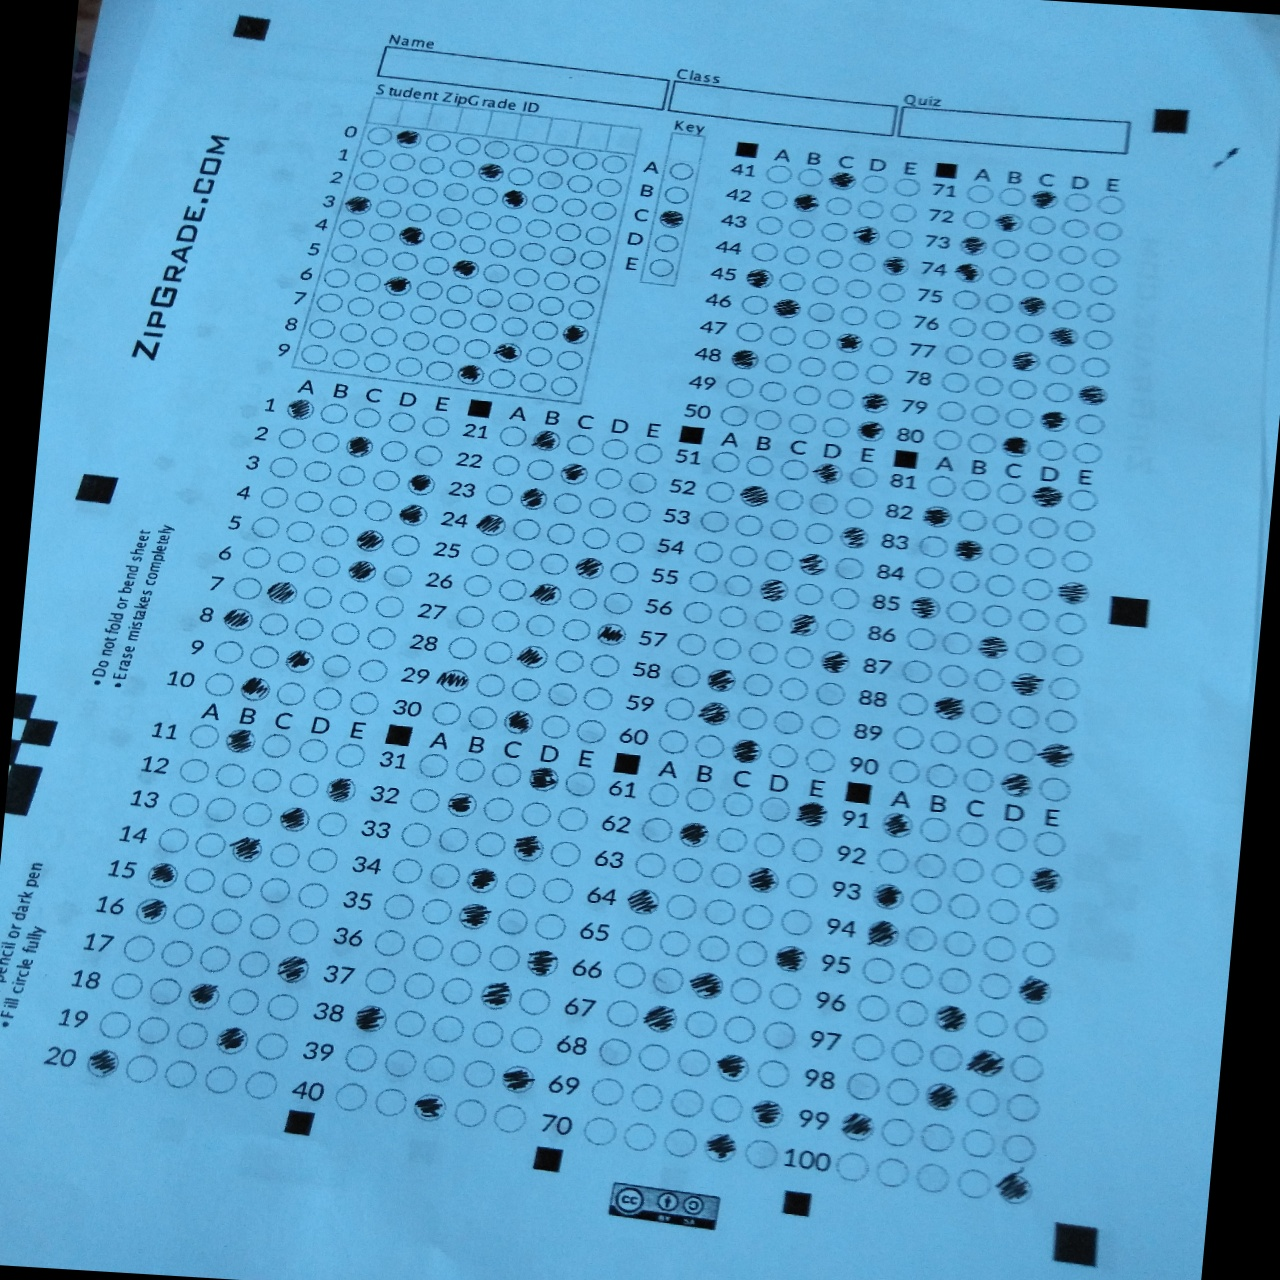not-c: (918, 1119, 958, 1155), (998, 1132, 1039, 1166), (636, 813, 675, 847), (706, 1092, 745, 1125), (1019, 938, 1058, 971), (962, 1087, 1002, 1119), (958, 1126, 998, 1159), (667, 1085, 704, 1119), (760, 1017, 797, 1051), (949, 855, 987, 888), (954, 819, 992, 853), (741, 1138, 779, 1171), (754, 1058, 792, 1091), (700, 896, 738, 928), (631, 849, 669, 881), (644, 779, 682, 812), (681, 784, 720, 817), (719, 788, 757, 821), (872, 844, 911, 877), (972, 1007, 1010, 1040), (1012, 1012, 1050, 1044), (1007, 1051, 1046, 1084), (1003, 1091, 1042, 1124), (832, 1150, 871, 1183), (872, 1156, 911, 1189), (912, 1162, 951, 1194), (954, 1167, 993, 1200), (706, 858, 745, 890), (897, 960, 937, 992), (849, 1032, 888, 1063), (881, 1076, 921, 1108), (581, 1115, 619, 1148), (661, 1126, 699, 1159), (627, 1082, 665, 1115), (602, 998, 640, 1030), (656, 928, 694, 961), (675, 1046, 713, 1078), (765, 980, 803, 1013), (694, 932, 731, 965), (790, 835, 828, 867), (669, 852, 707, 885), (756, 794, 794, 826), (917, 813, 954, 846), (945, 888, 982, 921), (1032, 828, 1069, 860), (940, 927, 978, 960), (855, 990, 892, 1023), (888, 1036, 926, 1069), (595, 1036, 634, 1068), (721, 1014, 760, 1046), (727, 975, 765, 1007), (731, 939, 770, 971), (712, 823, 750, 855), (992, 824, 1030, 856), (986, 894, 1024, 926), (980, 932, 1019, 964), (860, 954, 899, 986), (843, 1070, 881, 1102), (878, 1116, 917, 1148), (218, 870, 254, 903), (532, 910, 568, 942), (418, 896, 455, 928), (225, 985, 261, 1017), (333, 1081, 369, 1114), (381, 1047, 417, 1080), (420, 1051, 456, 1084), (448, 937, 484, 969), (361, 965, 397, 998), (373, 1085, 409, 1118), (663, 891, 700, 924), (784, 869, 821, 901), (751, 829, 788, 862), (913, 847, 949, 880), (1024, 899, 1061, 932), (976, 968, 1013, 1001), (937, 965, 973, 998), (1043, 706, 1080, 738), (406, 787, 443, 818), (170, 900, 207, 932), (196, 942, 233, 974), (508, 1024, 545, 1056), (469, 1019, 506, 1050), (620, 1121, 658, 1152), (590, 1075, 627, 1107), (610, 960, 647, 992), (617, 921, 654, 953), (649, 966, 687, 998), (636, 1042, 674, 1074), (683, 1007, 721, 1039), (738, 901, 776, 933), (907, 884, 945, 915), (989, 859, 1027, 891), (903, 921, 940, 953), (892, 998, 930, 1029), (926, 1041, 964, 1073), (661, 693, 699, 724), (135, 1013, 170, 1046), (124, 1051, 159, 1084), (265, 990, 300, 1023), (431, 1013, 467, 1046), (257, 874, 293, 906), (389, 856, 425, 887), (416, 750, 452, 782), (488, 760, 524, 791), (495, 905, 531, 937), (181, 864, 217, 896), (158, 939, 195, 971), (246, 911, 282, 942), (285, 915, 321, 947), (203, 1063, 239, 1095), (341, 1042, 377, 1074), (491, 1102, 527, 1133), (409, 932, 445, 964), (370, 927, 407, 959), (778, 906, 815, 938), (922, 760, 959, 791), (935, 660, 972, 692), (972, 665, 1008, 696), (764, 738, 801, 770), (888, 723, 926, 754), (667, 662, 704, 693), (561, 768, 597, 799), (554, 804, 590, 836), (547, 838, 583, 870), (540, 873, 576, 905), (472, 829, 508, 860), (479, 794, 515, 825), (427, 860, 462, 892), (110, 971, 145, 1002), (148, 975, 183, 1007), (163, 1058, 198, 1090), (236, 949, 271, 981), (462, 1058, 497, 1090), (517, 986, 552, 1017), (438, 976, 474, 1008), (393, 1008, 428, 1040), (294, 880, 331, 911), (380, 892, 416, 922), (518, 799, 554, 830), (121, 933, 157, 964), (209, 907, 245, 938), (253, 1030, 290, 1061), (243, 1070, 279, 1101), (401, 971, 437, 1001), (927, 728, 964, 758), (894, 688, 931, 719), (968, 697, 1005, 728), (1002, 735, 1039, 765), (1037, 775, 1074, 805), (1046, 673, 1082, 703), (1049, 640, 1085, 670), (802, 745, 838, 776), (692, 731, 728, 762), (672, 629, 708, 660), (709, 633, 745, 663), (745, 638, 782, 668), (781, 641, 817, 672), (903, 624, 939, 654), (912, 561, 948, 592), (885, 757, 922, 787), (452, 754, 486, 785), (502, 871, 537, 901), (436, 824, 471, 855), (97, 1010, 132, 1041), (175, 1021, 210, 1051), (452, 1097, 488, 1128), (485, 942, 520, 973), (656, 726, 692, 756), (960, 765, 996, 795), (898, 658, 934, 687), (965, 731, 1001, 761), (1005, 702, 1041, 731), (738, 670, 775, 700), (715, 602, 751, 632), (679, 598, 715, 627), (399, 821, 434, 850), (776, 674, 811, 703), (771, 708, 806, 737), (806, 713, 843, 741), (733, 704, 769, 733), (823, 615, 859, 644), (831, 554, 867, 583), (273, 680, 307, 709), (188, 722, 222, 751), (429, 699, 463, 728), (489, 607, 523, 636), (459, 572, 493, 601), (297, 736, 331, 765), (813, 679, 847, 708), (464, 703, 499, 731), (509, 676, 544, 704), (445, 634, 481, 662), (202, 795, 237, 823), (751, 607, 787, 635), (772, 486, 808, 515), (791, 581, 828, 608), (720, 571, 756, 598), (686, 567, 722, 594), (939, 629, 975, 656), (1012, 639, 1048, 666), (986, 542, 1022, 568), (925, 474, 961, 501), (767, 515, 803, 542), (840, 493, 877, 520), (743, 452, 779, 479), (707, 448, 743, 475), (309, 685, 343, 713), (537, 712, 571, 740), (546, 680, 580, 708), (553, 648, 587, 676), (557, 617, 591, 645), (523, 612, 557, 640), (493, 577, 527, 605), (600, 588, 634, 617), (538, 551, 572, 579), (259, 731, 293, 760), (332, 742, 366, 770), (288, 771, 322, 799), (251, 767, 285, 795), (213, 761, 247, 789), (156, 826, 190, 855), (193, 832, 227, 860), (240, 799, 274, 828), (314, 810, 348, 838), (305, 846, 339, 874), (268, 840, 302, 869), (690, 538, 726, 565), (761, 547, 796, 574), (1016, 606, 1051, 633), (979, 602, 1014, 629), (982, 571, 1017, 598), (1020, 576, 1055, 602), (1023, 545, 1058, 572), (955, 508, 990, 535), (959, 475, 994, 502), (993, 479, 1028, 506), (1024, 515, 1060, 542), (803, 519, 838, 546), (703, 481, 738, 508), (806, 490, 842, 517), (845, 464, 880, 491), (942, 599, 979, 625), (695, 509, 731, 535), (580, 685, 613, 713), (607, 558, 640, 586), (178, 757, 211, 785), (168, 791, 200, 819), (338, 588, 372, 615), (347, 689, 381, 716), (202, 670, 236, 697), (474, 673, 508, 700), (481, 639, 515, 666), (588, 653, 622, 680), (452, 602, 486, 629), (828, 585, 862, 612), (990, 511, 1024, 538), (1065, 486, 1099, 513), (731, 512, 765, 539), (1058, 215, 1092, 241), (726, 543, 761, 568), (1053, 612, 1088, 638), (947, 568, 982, 594), (1062, 517, 1097, 543), (1058, 549, 1094, 574), (778, 457, 813, 483), (318, 523, 350, 550), (309, 553, 342, 580), (302, 584, 335, 611), (257, 610, 290, 636), (355, 658, 388, 685), (574, 719, 607, 745), (565, 585, 598, 612), (468, 542, 501, 568), (829, 358, 862, 384), (836, 302, 869, 329), (1005, 406, 1037, 433), (1044, 350, 1077, 377), (1054, 268, 1087, 295), (917, 533, 951, 559), (869, 306, 903, 332), (1012, 320, 1046, 346), (274, 549, 306, 576), (240, 545, 272, 572), (544, 520, 576, 547), (579, 525, 611, 552), (489, 452, 520, 479), (633, 440, 665, 467), (599, 437, 631, 464), (976, 343, 1008, 370), (258, 484, 291, 510), (250, 513, 282, 539), (382, 563, 415, 588), (231, 576, 264, 601), (365, 625, 397, 651), (293, 615, 326, 641), (620, 501, 653, 526), (551, 490, 584, 516), (564, 433, 597, 458), (819, 414, 852, 440), (801, 326, 833, 352), (767, 324, 799, 349), (776, 267, 809, 293), (932, 427, 965, 452), (979, 316, 1012, 342), (1006, 376, 1039, 402), (1036, 436, 1069, 462), (1069, 440, 1102, 465), (1074, 411, 1107, 437), (1041, 380, 1074, 406), (1051, 297, 1084, 322), (1020, 267, 1053, 293), (990, 237, 1023, 263), (1088, 244, 1121, 270), (1026, 212, 1058, 238), (960, 207, 993, 233), (964, 181, 996, 206), (846, 250, 879, 275), (781, 243, 813, 268), (753, 212, 785, 238), (756, 186, 789, 212), (1085, 273, 1119, 298), (350, 406, 382, 431), (327, 493, 359, 519), (390, 532, 422, 558), (331, 621, 362, 647), (248, 644, 280, 669), (212, 639, 244, 665), (320, 653, 352, 679), (503, 546, 535, 572), (510, 517, 542, 543), (483, 482, 515, 508), (524, 456, 556, 482), (593, 467, 625, 492), (627, 470, 659, 496), (719, 403, 750, 429), (753, 407, 784, 433), (785, 410, 817, 436), (867, 334, 899, 360), (757, 377, 789, 403), (738, 291, 770, 316), (805, 299, 837, 325), (934, 400, 966, 425), (946, 314, 978, 340), (1084, 298, 1116, 324), (1092, 218, 1124, 244), (275, 425, 308, 450), (284, 519, 316, 544), (373, 594, 406, 619), (613, 530, 646, 554), (586, 496, 619, 520), (496, 423, 529, 448), (863, 363, 896, 388), (722, 375, 755, 400), (761, 350, 794, 375), (795, 354, 828, 379), (733, 320, 765, 345), (843, 277, 876, 301), (965, 431, 998, 456), (939, 372, 972, 396), (944, 343, 976, 368), (1081, 328, 1114, 353), (1021, 238, 1054, 263), (1062, 190, 1095, 215), (996, 184, 1029, 209), (815, 246, 847, 271), (749, 239, 782, 264), (762, 162, 795, 186), (822, 195, 855, 219), (267, 454, 298, 479), (318, 401, 349, 425), (420, 414, 451, 438), (377, 438, 409, 463), (362, 497, 394, 522), (825, 387, 857, 411), (792, 383, 824, 408), (810, 272, 842, 297), (949, 290, 981, 314), (983, 291, 1015, 315), (973, 374, 1005, 399), (987, 263, 1019, 287), (1096, 193, 1128, 218), (794, 164, 825, 189), (384, 410, 417, 434), (309, 430, 342, 454), (874, 280, 907, 304), (968, 403, 1001, 427), (1078, 356, 1111, 380), (857, 172, 891, 195), (352, 268, 382, 293), (486, 236, 517, 260), (301, 458, 332, 483), (370, 468, 401, 492), (1055, 241, 1085, 266), (434, 204, 465, 227), (407, 302, 438, 326), (414, 444, 445, 468), (335, 464, 367, 488), (892, 176, 924, 199), (787, 217, 818, 240), (431, 332, 461, 356), (294, 489, 324, 513), (452, 134, 483, 157), (481, 137, 511, 161), (511, 142, 542, 165), (469, 184, 499, 207), (646, 256, 676, 279), (583, 224, 613, 247), (518, 240, 549, 264), (542, 268, 572, 292), (444, 282, 475, 306), (475, 286, 505, 309), (504, 290, 535, 313), (461, 338, 491, 361), (486, 367, 517, 390), (331, 347, 361, 370), (568, 150, 600, 172), (462, 209, 493, 231), (306, 316, 338, 339), (855, 199, 886, 222), (886, 202, 918, 224), (884, 227, 915, 250), (593, 176, 622, 199), (358, 147, 387, 170), (410, 177, 440, 200), (428, 229, 457, 252), (547, 244, 577, 267), (336, 218, 366, 241), (566, 299, 595, 322), (525, 345, 554, 368), (438, 306, 468, 329), (377, 299, 407, 322), (368, 325, 397, 348), (554, 348, 584, 372), (563, 173, 593, 196), (535, 169, 565, 191), (387, 151, 417, 173), (350, 170, 381, 192), (380, 173, 410, 196), (441, 181, 471, 203), (588, 200, 619, 223), (666, 161, 696, 183), (652, 233, 682, 256), (493, 212, 524, 234), (403, 202, 434, 224), (374, 197, 404, 219), (358, 245, 388, 267), (511, 266, 542, 288), (414, 280, 444, 302), (535, 295, 565, 318), (530, 319, 560, 341), (338, 322, 368, 345), (400, 331, 430, 353), (549, 375, 579, 397), (517, 372, 547, 394), (394, 355, 424, 377), (361, 350, 392, 373), (821, 219, 851, 241), (578, 248, 610, 270), (505, 165, 535, 188), (448, 158, 477, 181), (416, 154, 445, 176), (530, 193, 559, 216), (559, 195, 588, 217), (662, 185, 692, 207), (524, 218, 553, 240), (392, 250, 421, 272), (457, 233, 486, 256), (572, 274, 601, 297), (482, 263, 511, 285), (329, 241, 359, 264), (322, 267, 352, 290), (469, 312, 498, 334), (424, 360, 454, 382), (367, 222, 397, 243), (421, 256, 451, 277), (499, 316, 530, 338), (346, 295, 376, 316), (299, 343, 329, 365), (315, 291, 343, 313), (365, 125, 394, 147), (423, 132, 452, 154), (542, 145, 571, 166), (600, 154, 629, 175), (553, 222, 583, 243)
taken-c: (993, 1172, 1037, 1208), (931, 1002, 974, 1037), (838, 1110, 877, 1146), (1039, 738, 1080, 772), (1013, 975, 1056, 1007), (701, 1129, 740, 1164), (922, 1080, 961, 1115), (967, 1046, 1006, 1081), (508, 833, 549, 866), (930, 693, 971, 726), (82, 1047, 122, 1080), (1027, 863, 1067, 896), (876, 810, 917, 842), (212, 1024, 251, 1057), (184, 981, 224, 1013), (350, 1005, 390, 1036), (410, 1090, 450, 1122), (452, 900, 492, 932), (441, 790, 481, 822), (523, 765, 563, 797), (869, 879, 908, 911), (1007, 667, 1047, 699), (499, 1062, 537, 1095), (273, 954, 312, 986), (477, 980, 516, 1012), (523, 948, 561, 980), (462, 866, 501, 898), (498, 707, 537, 738), (771, 942, 810, 974), (748, 1098, 787, 1130), (864, 918, 903, 949), (996, 769, 1035, 801), (624, 886, 662, 917), (714, 1053, 753, 1083), (975, 633, 1014, 663), (229, 835, 266, 865), (745, 865, 783, 896), (132, 896, 169, 926), (690, 971, 727, 1001), (644, 1005, 681, 1034), (951, 538, 988, 567), (265, 579, 301, 608), (282, 647, 319, 676), (238, 675, 274, 704), (277, 805, 313, 835), (143, 862, 179, 891), (729, 737, 765, 767), (794, 799, 830, 829), (676, 821, 713, 850), (1056, 579, 1092, 608), (920, 502, 956, 531), (222, 605, 257, 634), (322, 775, 358, 804), (530, 580, 565, 610), (223, 727, 259, 755), (787, 611, 823, 639), (818, 648, 855, 676), (907, 594, 944, 622), (1036, 407, 1073, 435), (437, 666, 471, 695), (594, 621, 628, 651), (515, 485, 549, 515), (513, 644, 549, 672), (474, 512, 509, 540), (796, 550, 831, 578), (697, 700, 733, 728), (992, 207, 1027, 236), (756, 577, 792, 604), (704, 667, 741, 694), (1029, 484, 1065, 511), (1007, 348, 1043, 375), (1046, 324, 1082, 350), (572, 554, 606, 583), (527, 425, 561, 454), (999, 434, 1034, 461), (1075, 382, 1110, 409), (1016, 294, 1051, 321), (955, 232, 990, 259), (1027, 188, 1062, 215), (554, 461, 588, 488), (847, 222, 881, 248), (727, 345, 761, 372), (853, 418, 887, 445), (951, 261, 986, 287), (354, 527, 387, 554), (832, 328, 865, 355), (738, 482, 771, 509), (396, 502, 430, 527), (788, 190, 822, 216), (878, 253, 912, 279), (284, 397, 316, 423), (345, 558, 377, 584), (826, 166, 859, 192), (741, 265, 774, 291), (771, 295, 804, 321), (857, 389, 891, 414), (811, 462, 845, 486), (837, 525, 871, 550), (343, 434, 375, 459), (404, 472, 436, 498), (655, 207, 688, 232), (492, 340, 524, 365), (393, 127, 425, 150), (397, 224, 428, 248), (343, 193, 375, 217), (455, 361, 486, 384), (499, 188, 530, 211), (451, 258, 482, 281), (475, 161, 506, 183), (383, 275, 415, 298), (560, 324, 591, 346)
